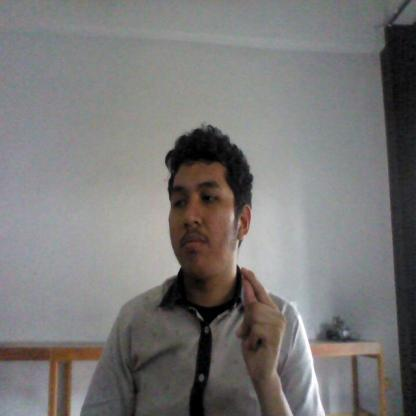R: (226, 264, 290, 380)
